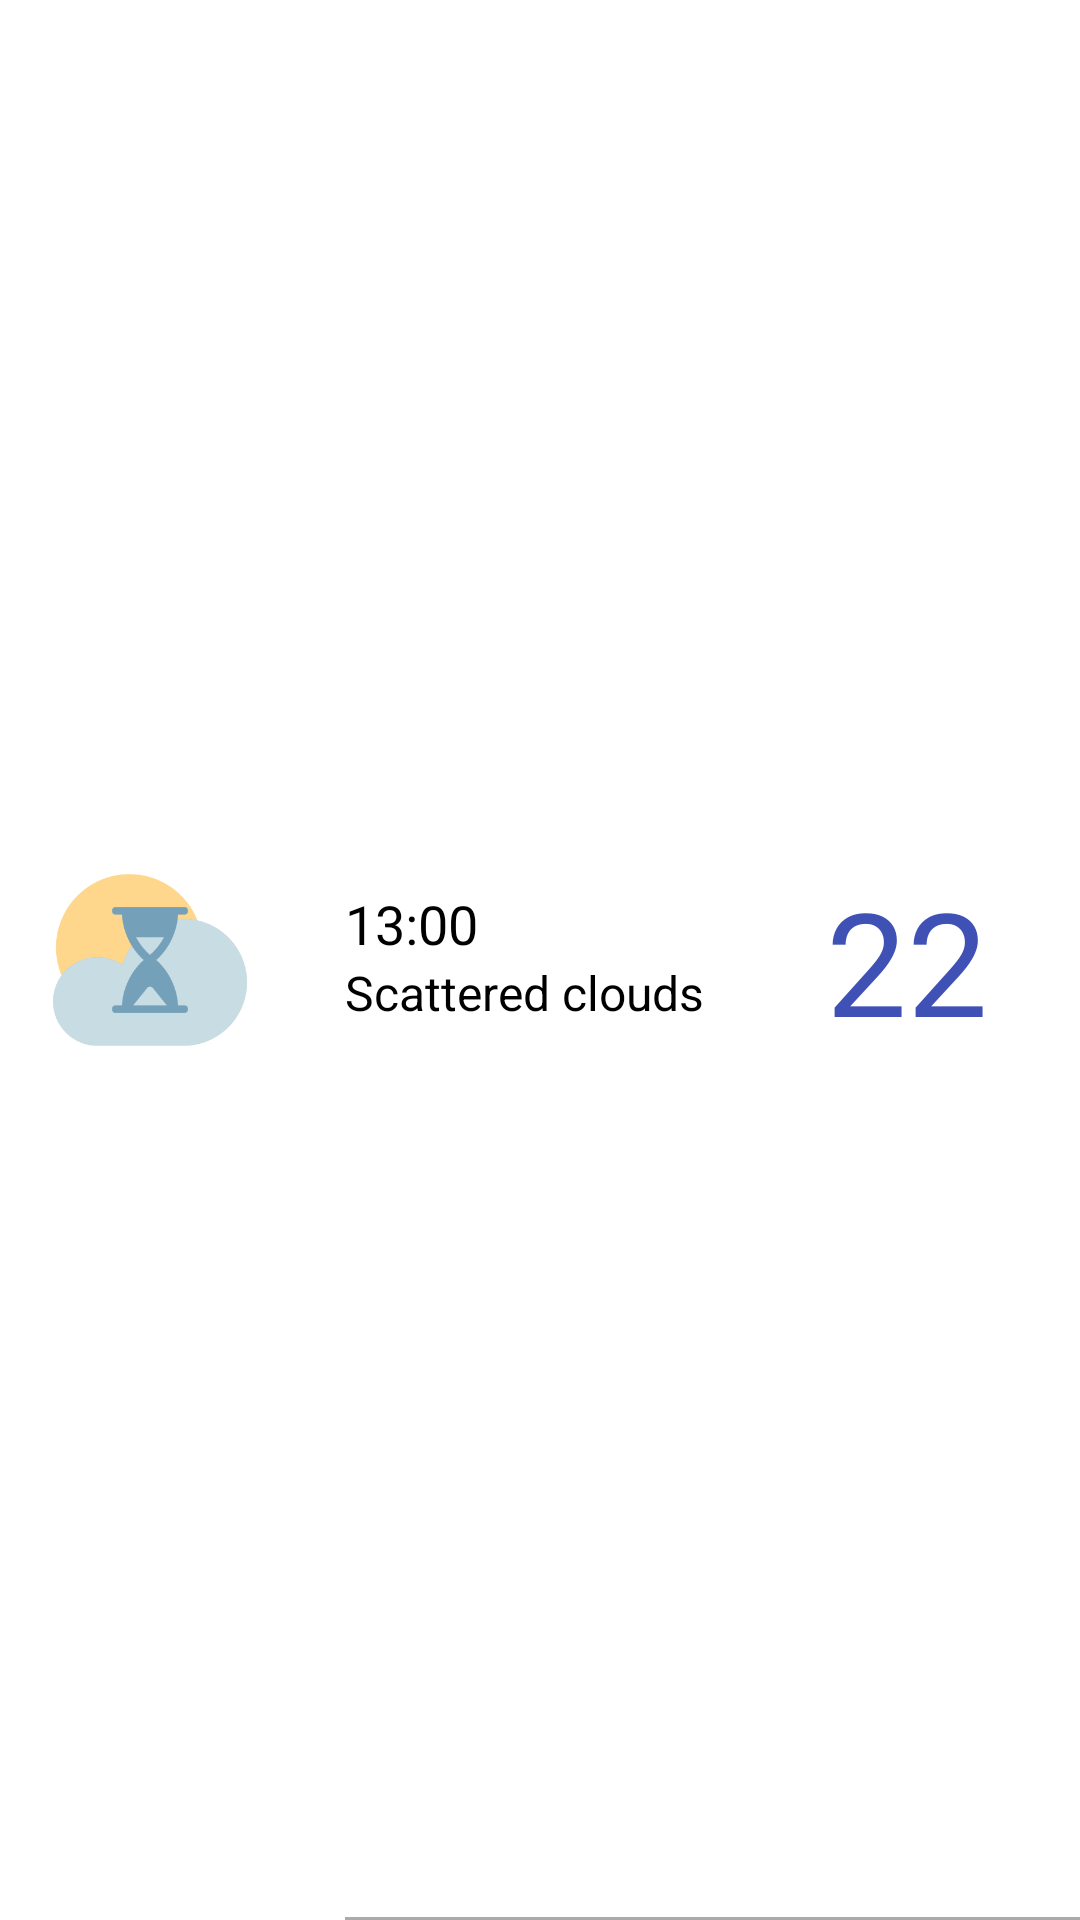

Icons on this 1080px×1920px Android screen, each with the point to tap as (x,y):
load: (150,960)
